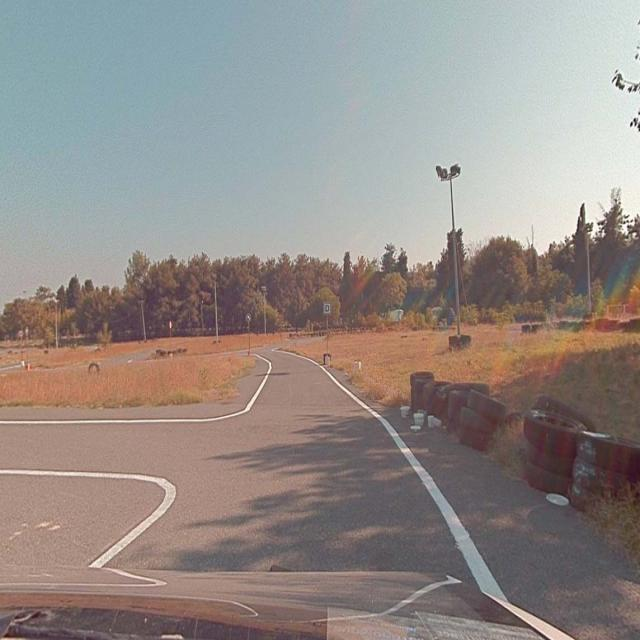durak: (324, 303, 330, 313)
